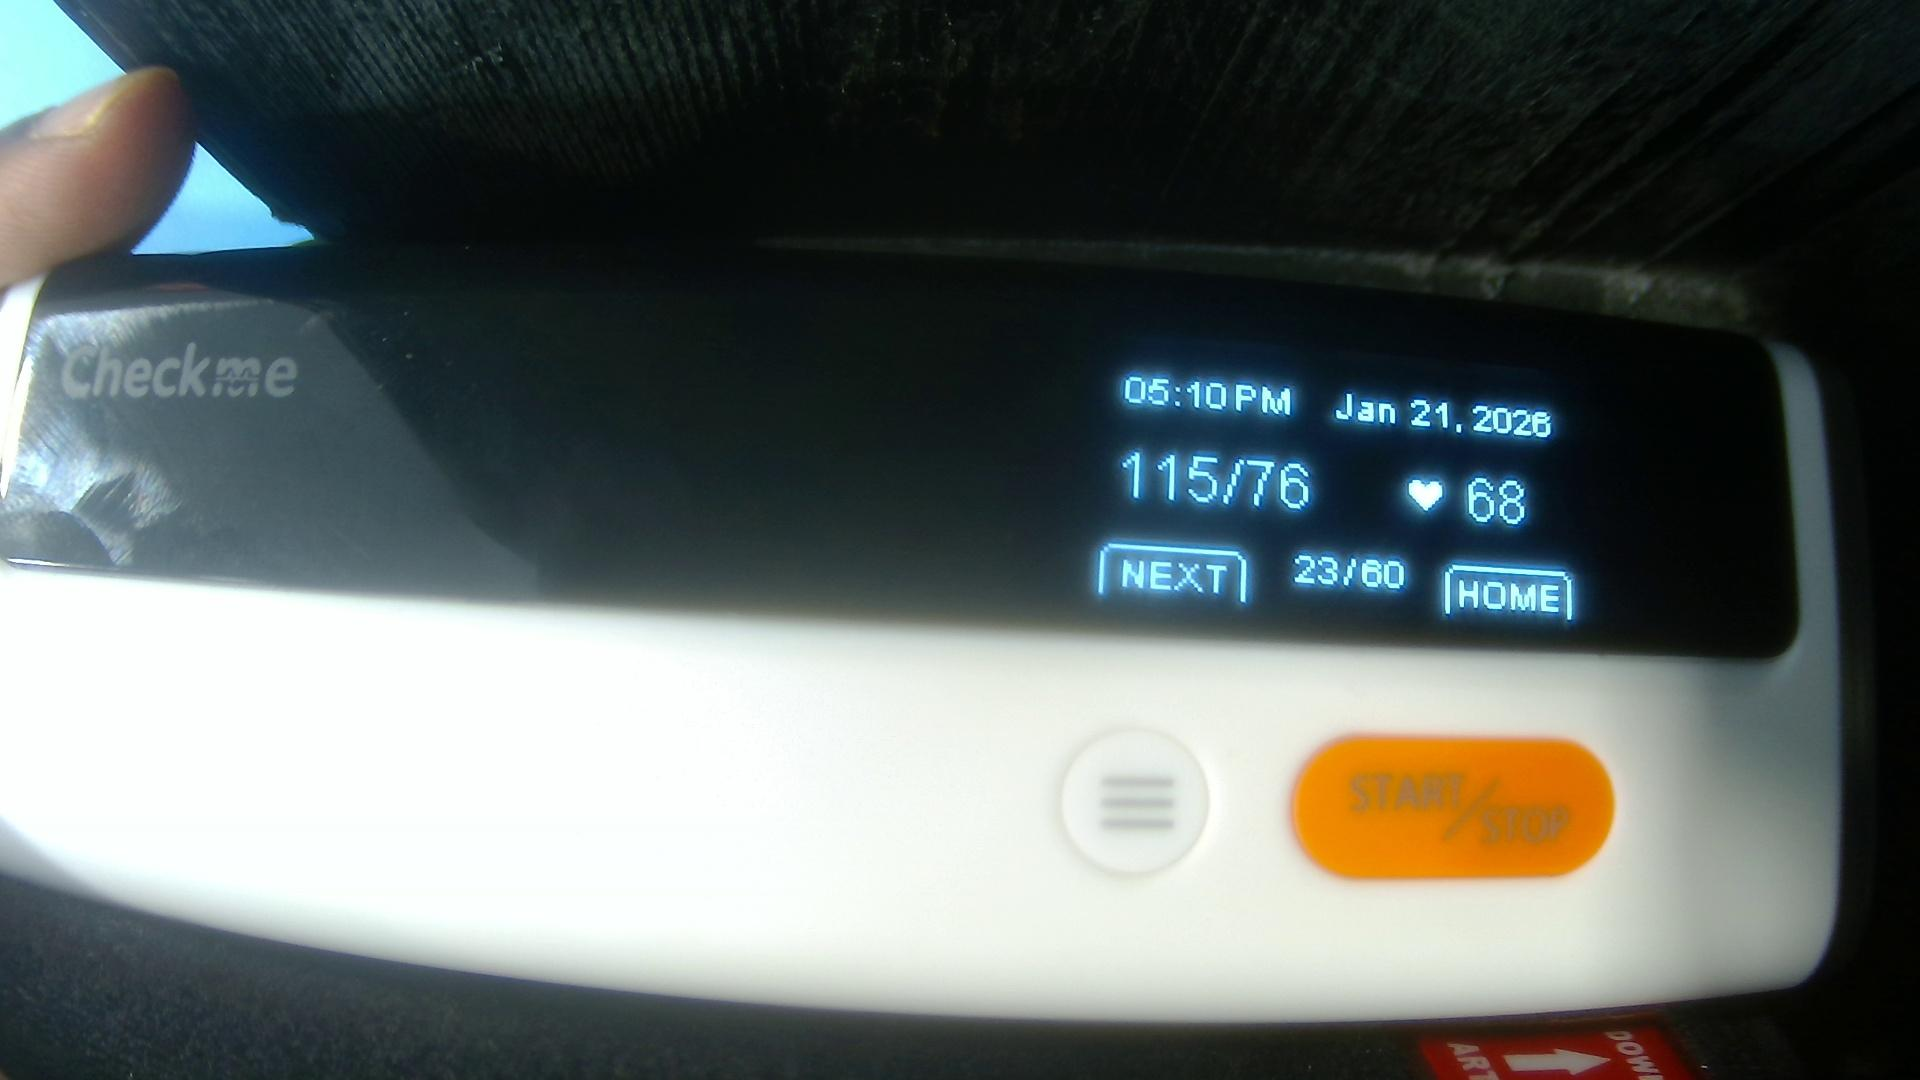DISPLAY: (21, 266, 1773, 664)
